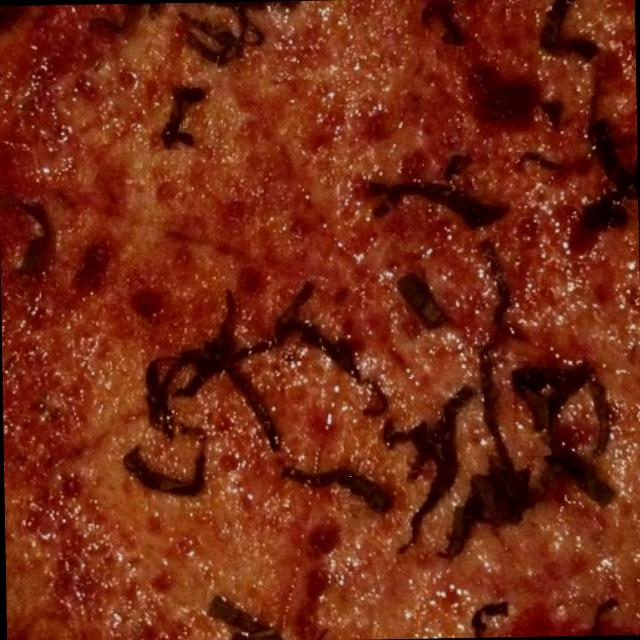basil: (140, 289, 242, 442), (404, 376, 478, 552), (371, 166, 506, 232), (272, 457, 394, 520), (276, 288, 360, 372), (446, 458, 534, 538), (576, 124, 638, 232), (234, 326, 284, 451), (122, 440, 205, 498), (180, 5, 258, 66), (199, 586, 285, 640), (526, 454, 617, 502), (147, 80, 209, 150), (529, 0, 599, 57), (390, 271, 448, 330), (542, 356, 596, 414), (512, 360, 551, 434), (586, 378, 616, 462), (463, 604, 513, 638)
cheese: (38, 11, 634, 610)
